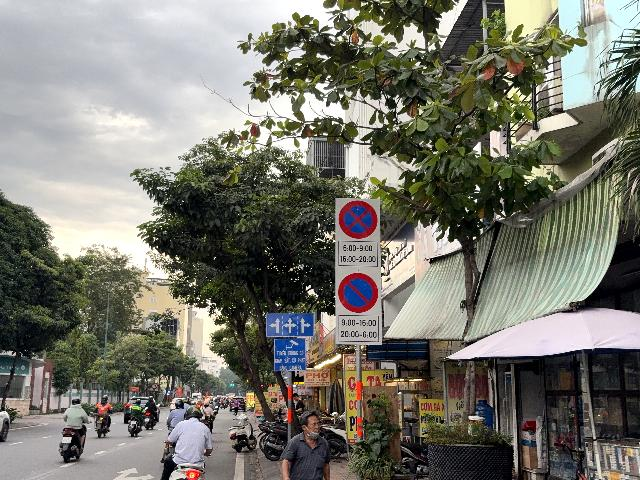cam-do-xe: (338, 272, 378, 313)
cam-dung-va-do-xe: (339, 200, 378, 239)
